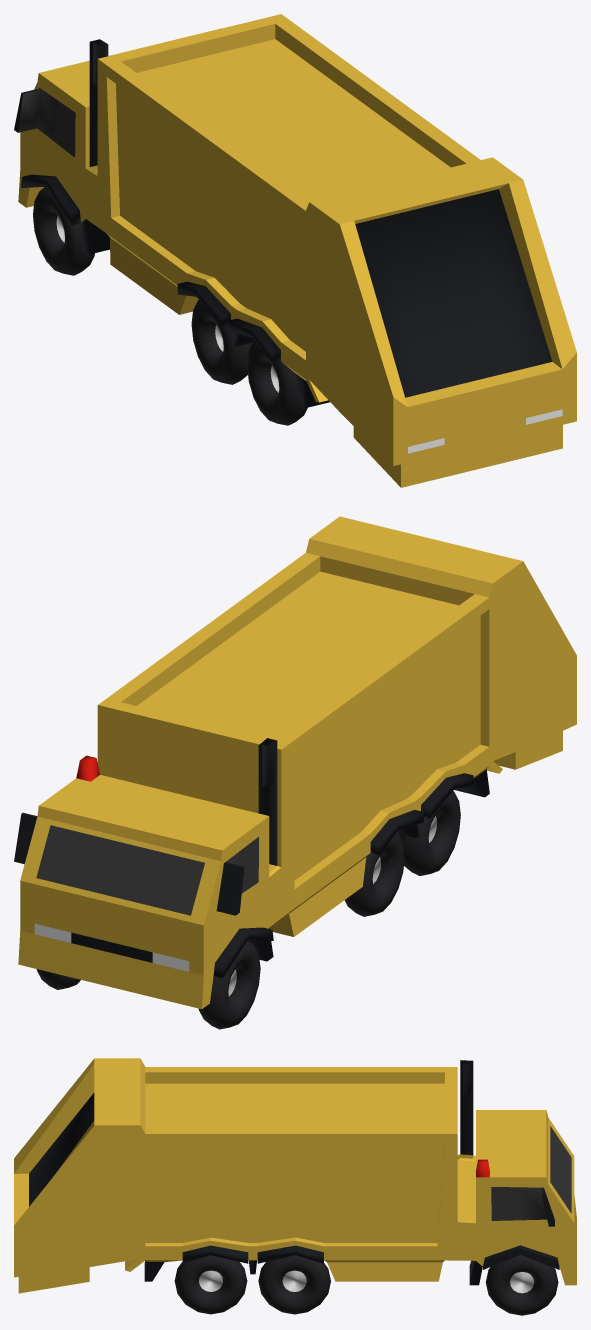
Rendered from garbage truck.fbx.
3 views of the same model, one above another, from view 1: azimuth 30°, elevation 25°; view 2: azimuth 150°, elevation 25°; view 3: azimuth 270°, elevation 25° (orthographic). The views are drawn at different scales.
Visible parts, largest first — view 1: Cube, Cylinder, Cylinder.004, Cylinder.003; view 2: Cube, Cylinder, Cylinder.004, Cylinder.003; view 3: Cube, Cylinder.002, Cylinder.005, Cylinder.001.
Boxes of the visible parts, x1,y1,x2,y2 form: Cube: [14, 14, 576, 487]; Cylinder: [33, 186, 94, 275]; Cylinder.004: [247, 340, 307, 425]; Cylinder.003: [191, 300, 252, 384]; Cube: [14, 516, 576, 1009]; Cylinder: [198, 940, 260, 1029]; Cylinder.004: [399, 791, 460, 875]; Cylinder.003: [344, 832, 404, 916]; Cube: [14, 1058, 576, 1293]; Cylinder.002: [258, 1255, 330, 1314]; Cylinder.005: [174, 1255, 247, 1314]; Cylinder.001: [485, 1254, 558, 1315].
Bounding box in the file's own units: 242 × 269 × 708.
